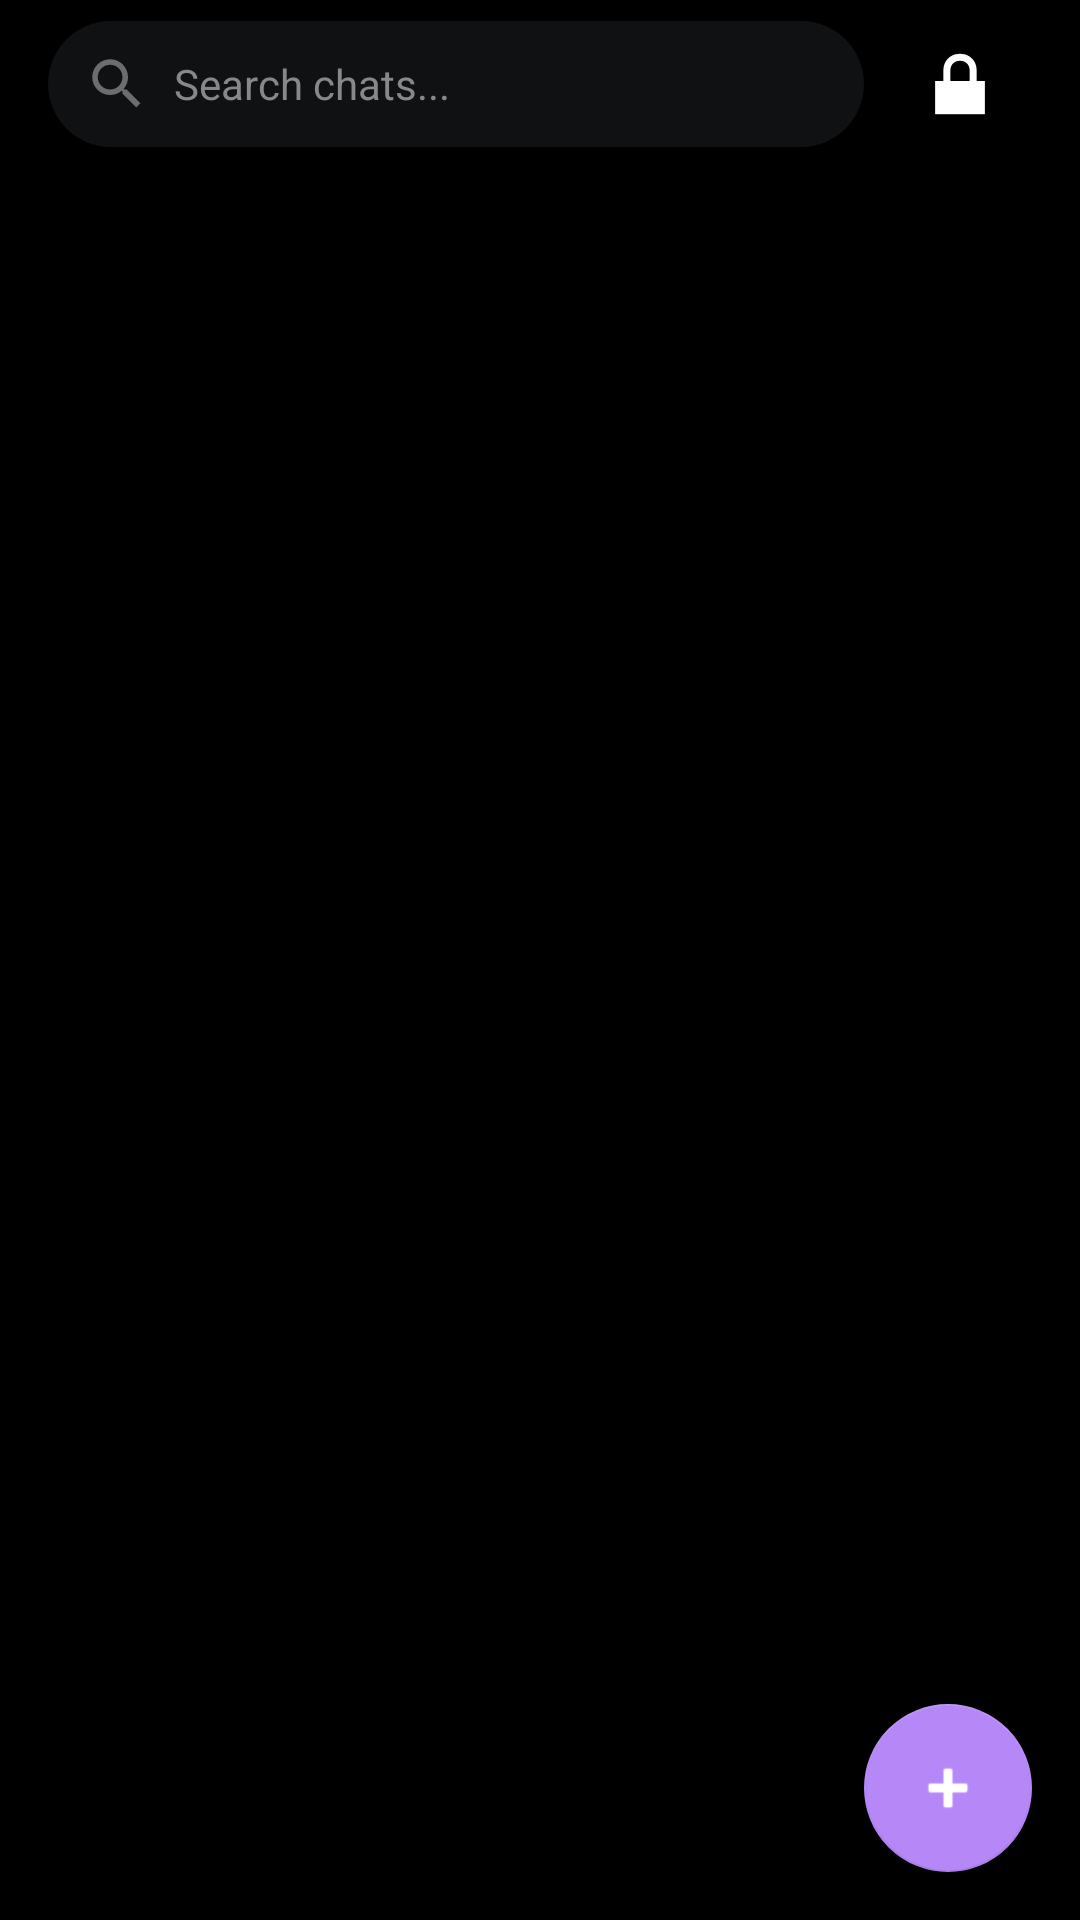

Screen size 1080 x 1920. Icon name, then its box in pixels as (x1, y1, x2, y2):
Encryption settings: (935, 53, 985, 115)
New chat: (864, 1704, 1032, 1872)
